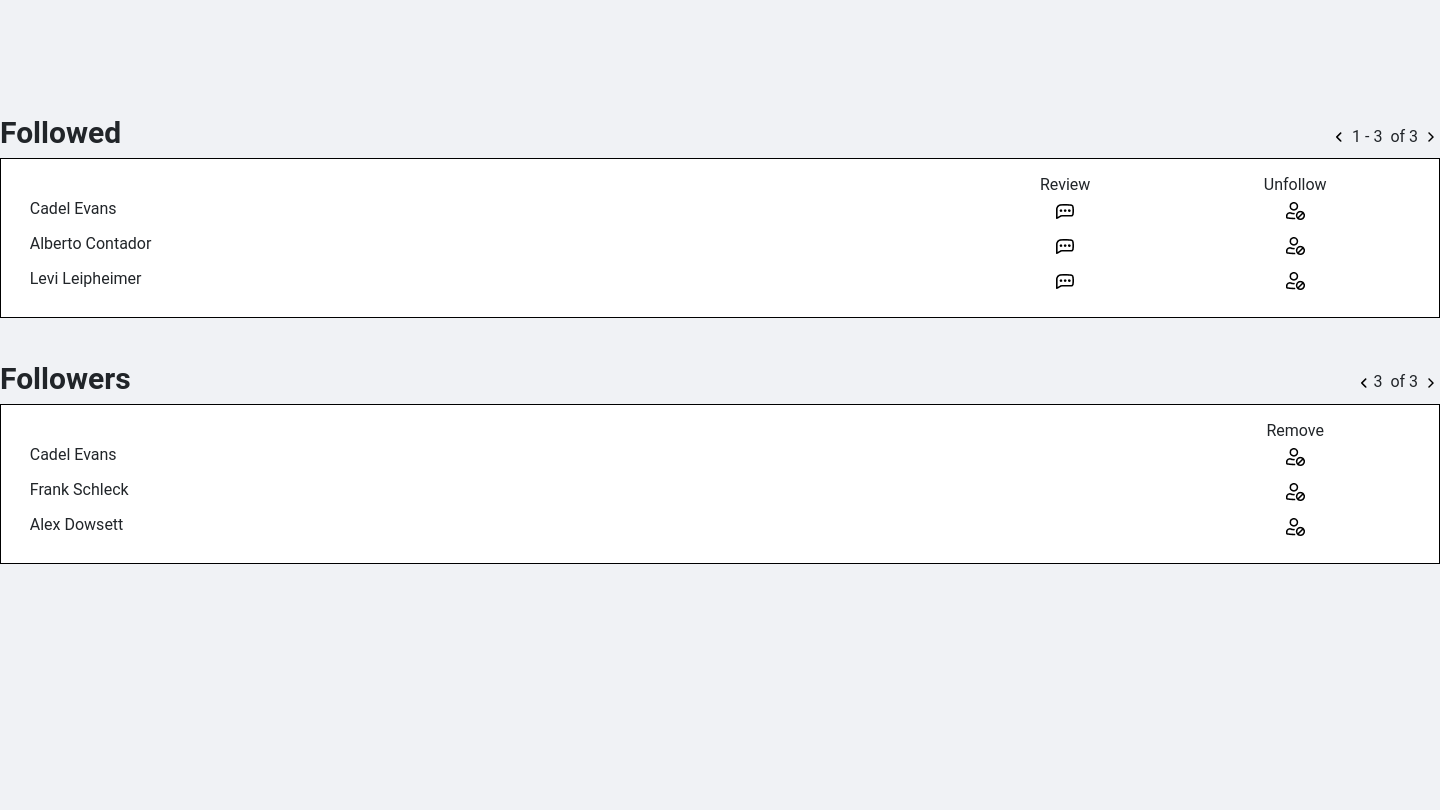
Test: UI testing for the follows component › Test 7: User attempts to review someone they have already reviewed
What coordinates should you click on to do the following:
click the 3rd button with alt text "Review icon"
I would click on:
 (1065, 210)
Its box is [1050,197,1080,223].
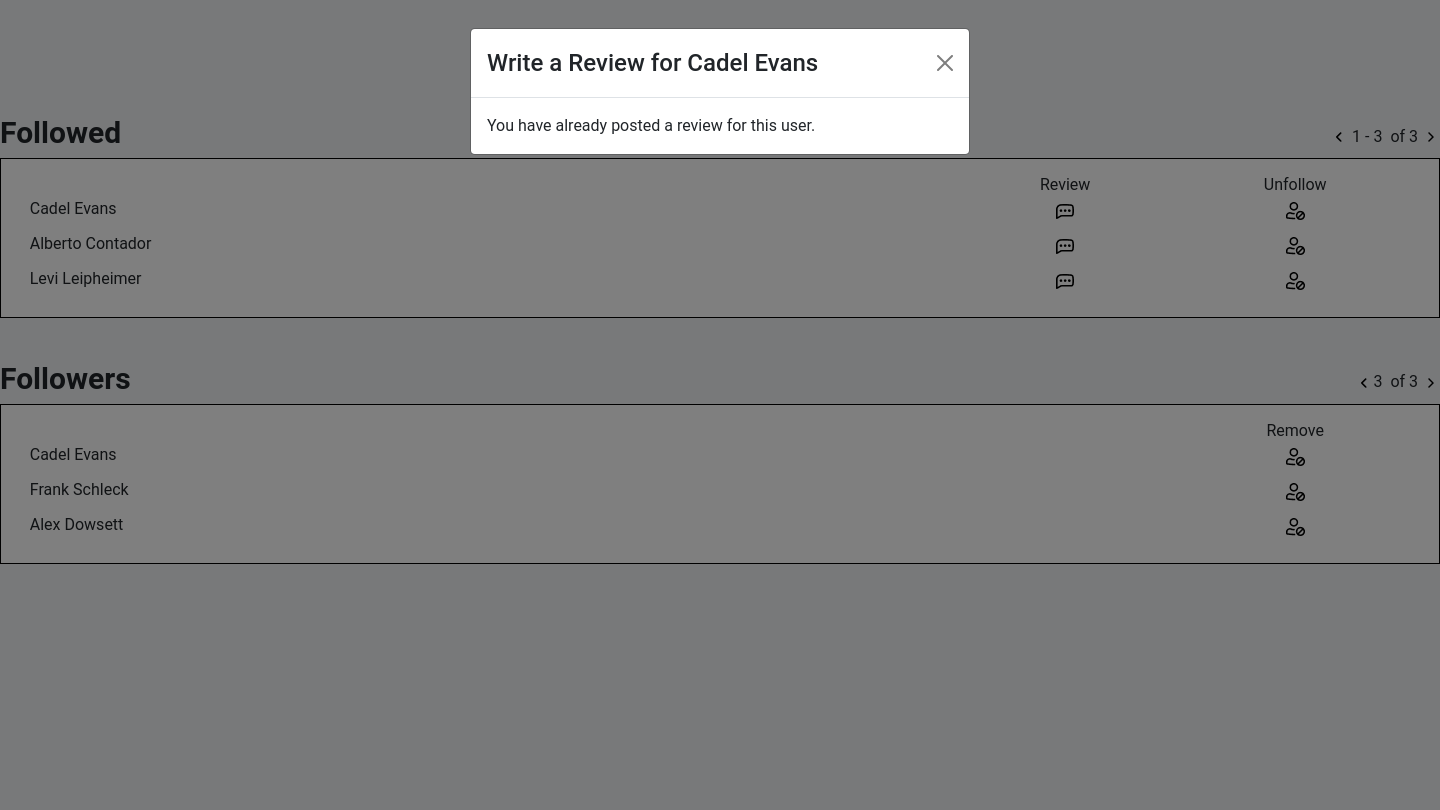
Expected: the text "You have already posted a review for this user." is shown, [487,116,815,135]
